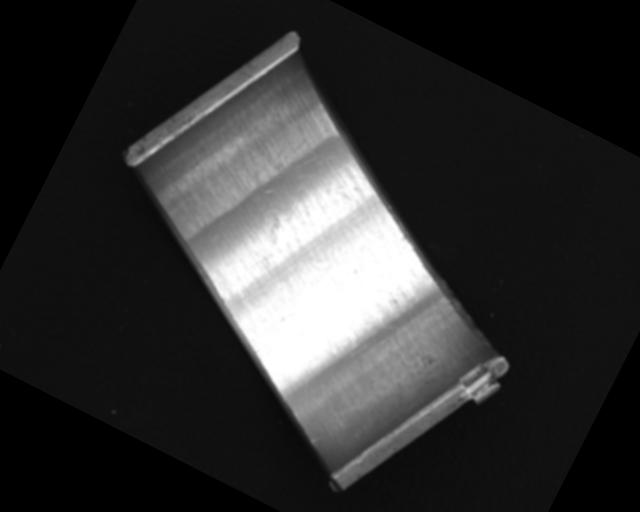nick: (310, 431, 325, 448)
